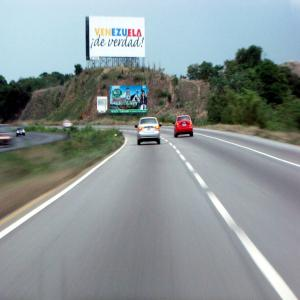Vehicle-registration-plate: (146, 127, 153, 132), (184, 123, 187, 127)
